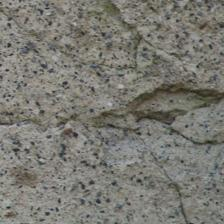Crack: (6, 84, 144, 137), (64, 78, 159, 145), (27, 19, 51, 87)
